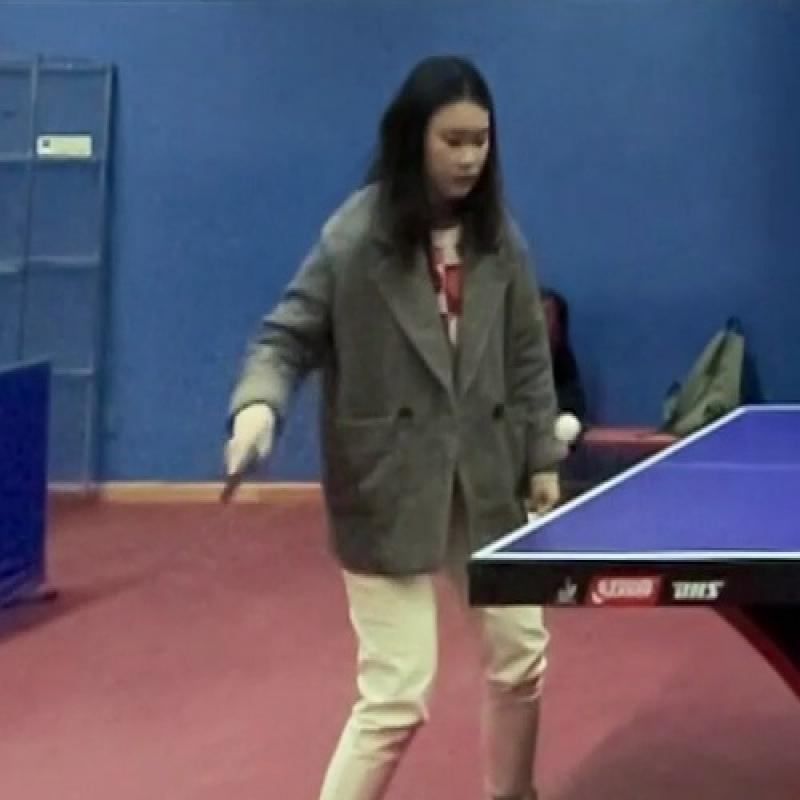bats: (212, 408, 303, 514)
